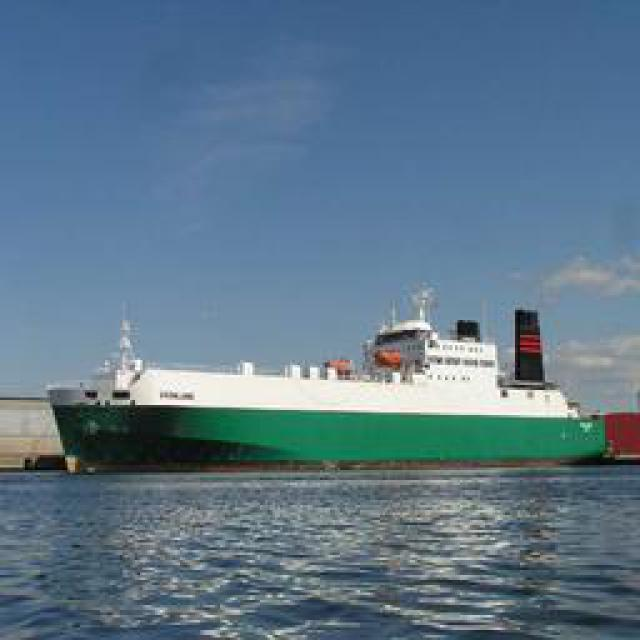Ship: (50, 292, 600, 472)
